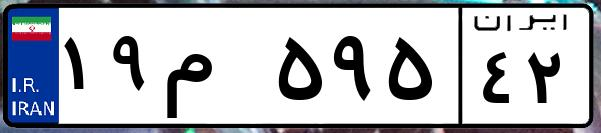1: (57, 26, 110, 100)
2: (525, 38, 570, 115)
4: (475, 38, 525, 113)
5: (270, 28, 330, 110), (385, 28, 445, 110)
9: (330, 28, 385, 110), (110, 28, 158, 98)
م: (158, 20, 270, 120)
